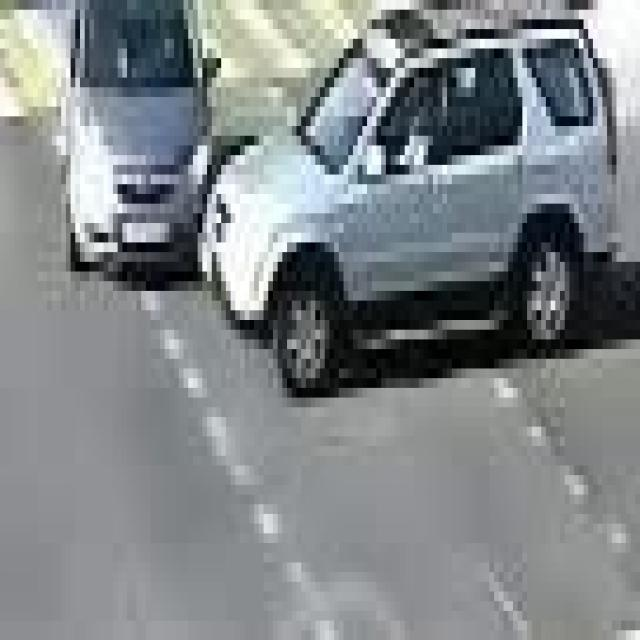accident: (72, 0, 620, 413)
